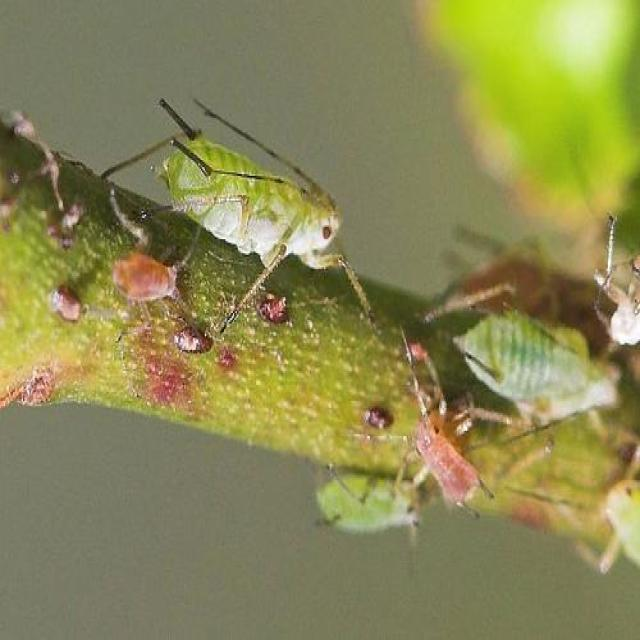Aphids: (112, 77, 380, 322), (403, 246, 627, 461)
